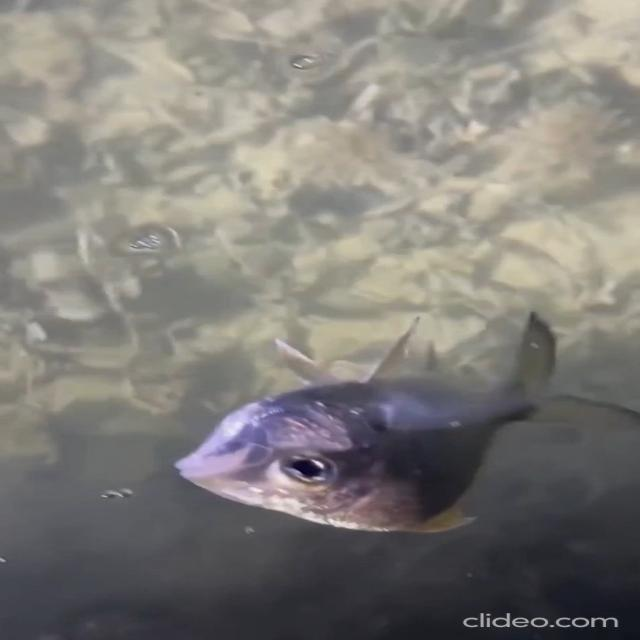fish: (163, 296, 640, 536)
